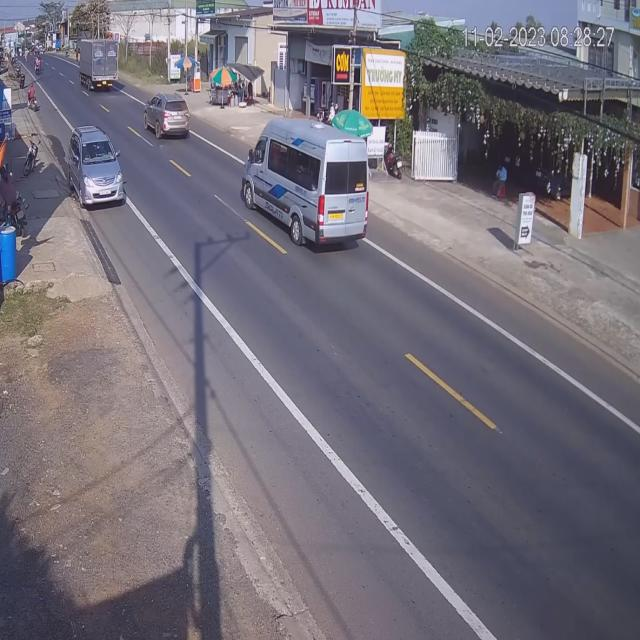bus: (243, 119, 370, 252)
car: (68, 126, 126, 210), (146, 93, 192, 140)
truck: (78, 41, 119, 94)
